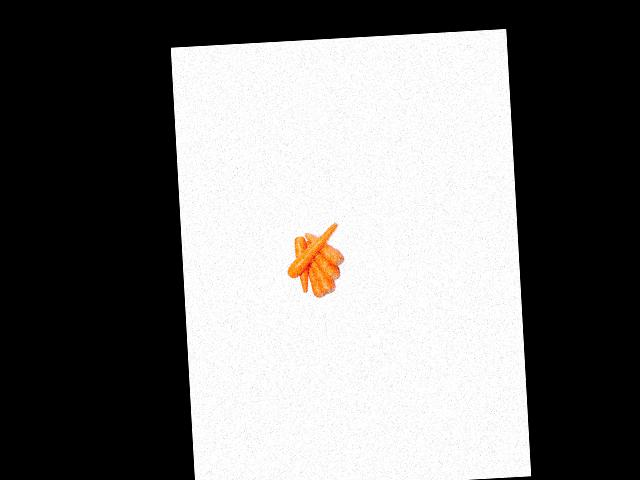carrot: (304, 225, 348, 265)
